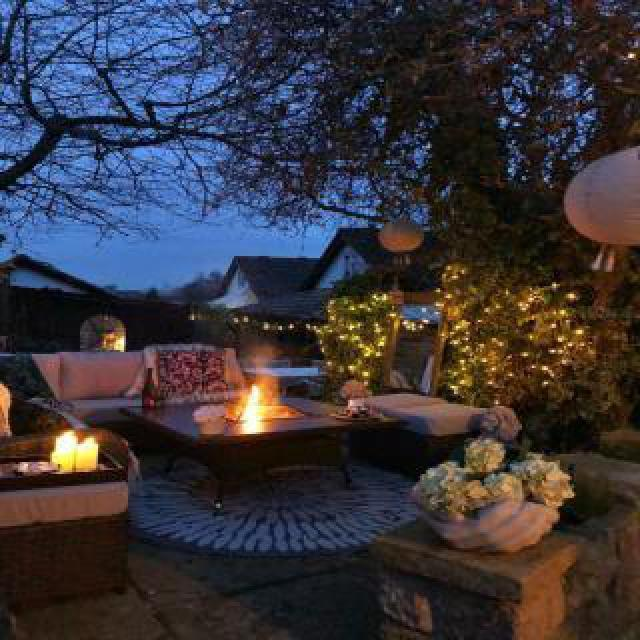Fire: (222, 376, 282, 434), (50, 424, 104, 456)
